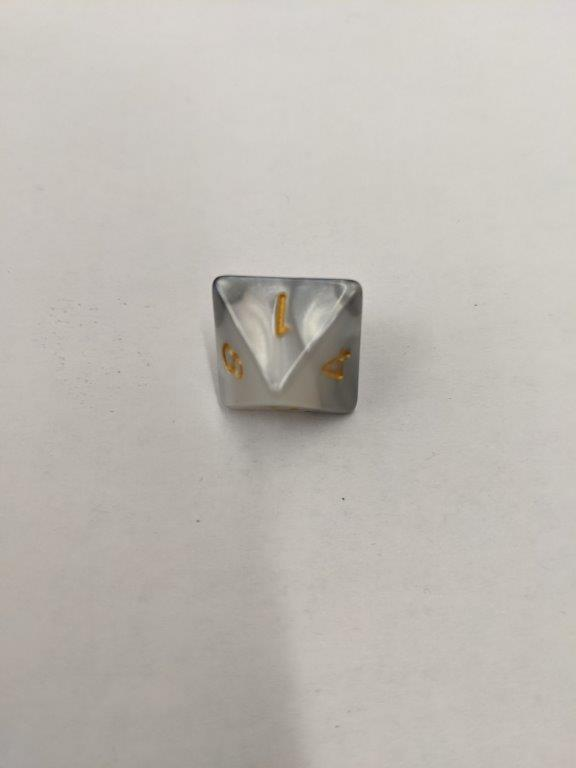d8-1: (208, 270, 365, 421)
